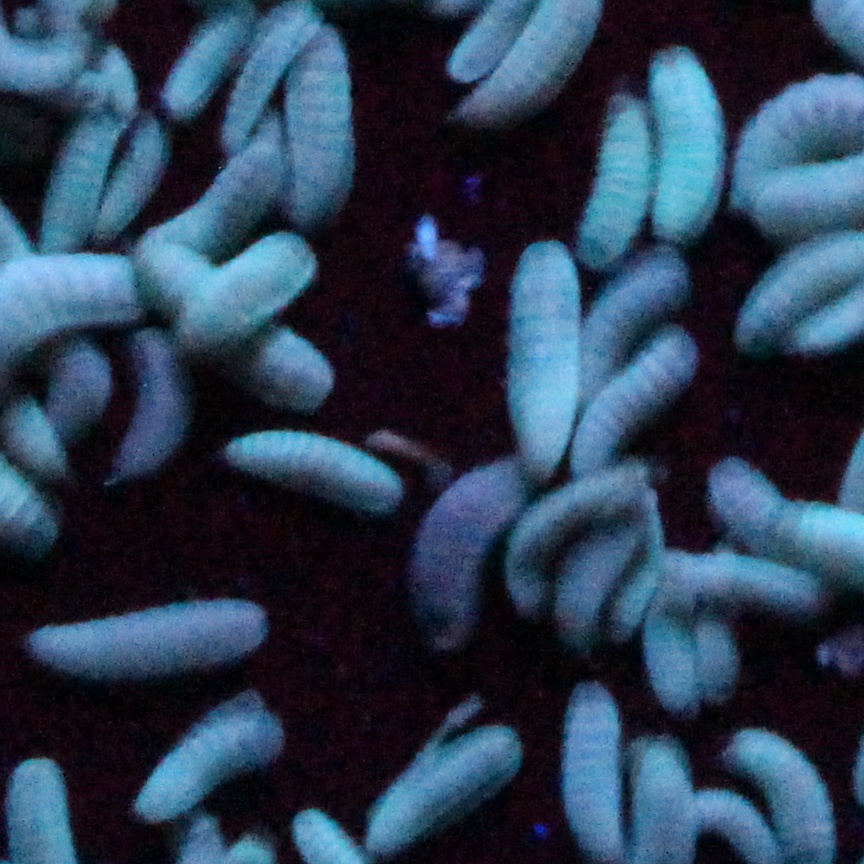larve: (141, 244, 332, 410), (359, 709, 528, 864), (170, 216, 333, 367), (494, 224, 594, 468), (126, 693, 300, 825), (569, 323, 699, 475), (508, 467, 645, 611), (31, 599, 283, 676), (643, 45, 734, 253), (216, 424, 407, 522), (274, 11, 360, 213), (424, 461, 515, 648), (555, 512, 681, 645), (629, 553, 825, 614), (122, 331, 194, 481), (40, 101, 110, 253), (587, 97, 648, 256), (109, 119, 170, 230), (639, 615, 697, 711), (691, 615, 745, 695)
